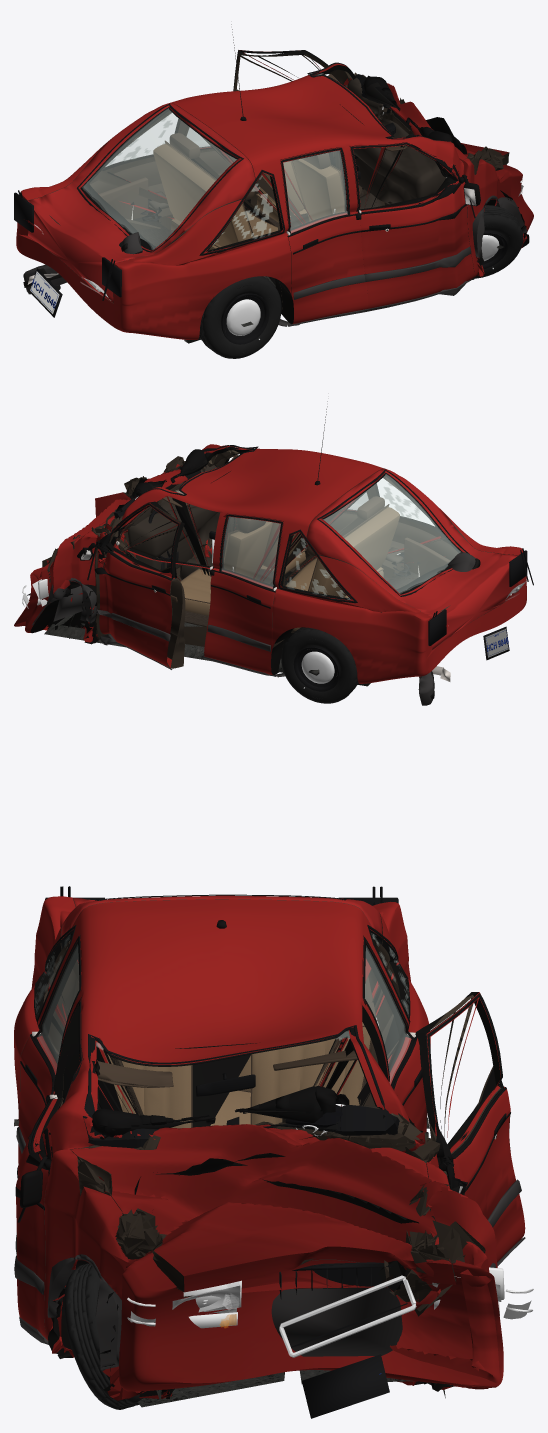
File: hatchback85_front_d3_lod1.glb
3 renders of one model, top to bottom at view 1: azimuth 30°, elevation 25°; view 2: azimuth 150°, elevation 25°; view 3: azimuth 270°, elevation 25°, orthographic. The views are drawn at different scales.
Parts seen in each view (by area): view 1: Body, Interior, Glass_Hatch, Hatch, Door_FR, Door_RR, Wheel_RR_mesh, Glass_RR, Trim_FR, Trim, Wheel_FR_mesh, Ends (+7 smaller); view 2: Body, Interior, Hatch, Glass_Hatch, Door_FL, Door_RL, Wheel_RL_mesh, Glass_RL, Trim, Ends, Trim_FL, Hood (+6 smaller); view 3: Body, Hood, Interior, Ends, Door_FL, Trim, Engine, Glass, Door_FR, Wheel_FR_mesh, Door_RR, Door_RL (+8 smaller).
Boxes of the visible parts, x1,y1,x2,y2 form: Body: (16,63,533,339); Interior: (99,74,445,250); Glass_Hatch: (77,103,243,252); Hatch: (28,102,255,303); Door_FR: (349,142,474,308); Door_RR: (279,147,368,324); Wheel_RR_mesh: (199,276,281,358); Glass_RR: (281,151,350,233); Trim_FR: (350,142,480,311); Trim: (199,24,527,326); Wheel_FR_mesh: (467,205,523,278); Ends: (14,178,523,317); Body: (14,444,526,683); Interior: (127,454,450,630); Hatch: (306,468,518,649); Glass_Hatch: (317,469,469,596); Door_FL: (94,501,185,668); Door_RL: (204,514,284,674); Wheel_RL_mesh: (281,627,358,703); Glass_RL: (219,516,283,589); Trim: (32,401,357,677); Ends: (22,548,533,660); Trim_FL: (77,503,179,669); Hood: (42,464,187,567); Body: (14,896,503,1400); Hood: (70,1124,455,1292); Interior: (68,976,379,1136); Ends: (45,886,533,1418); Door_FL: (415,992,525,1262); Trim: (32,920,495,1370); Engine: (271,1287,402,1356); Glass: (35,930,408,1148); Door_FR: (16,997,83,1340); Wheel_FR_mesh: (64,1263,143,1409); Door_RR: (18,934,81,1163); Door_RL: (362,936,426,1132).
Size of the model in its own units: 3.56 by 2.15 by 2.06.
Materials: 33 (5 with a texture image).
